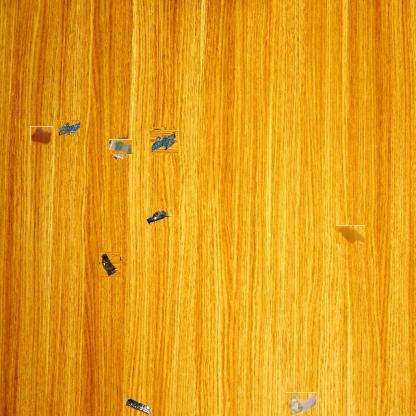dirty: (286, 392, 318, 415), (151, 128, 177, 154), (123, 397, 153, 415), (98, 253, 122, 275), (146, 208, 172, 226), (55, 120, 81, 136), (111, 137, 130, 157)
liquid: (336, 225, 366, 244), (30, 126, 53, 145)
